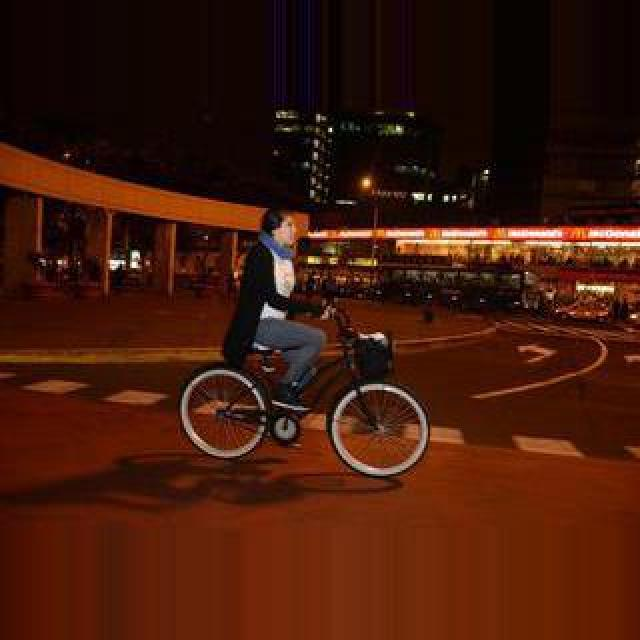MC-Bike: (222, 206, 334, 412)
Person: (180, 303, 426, 477)
